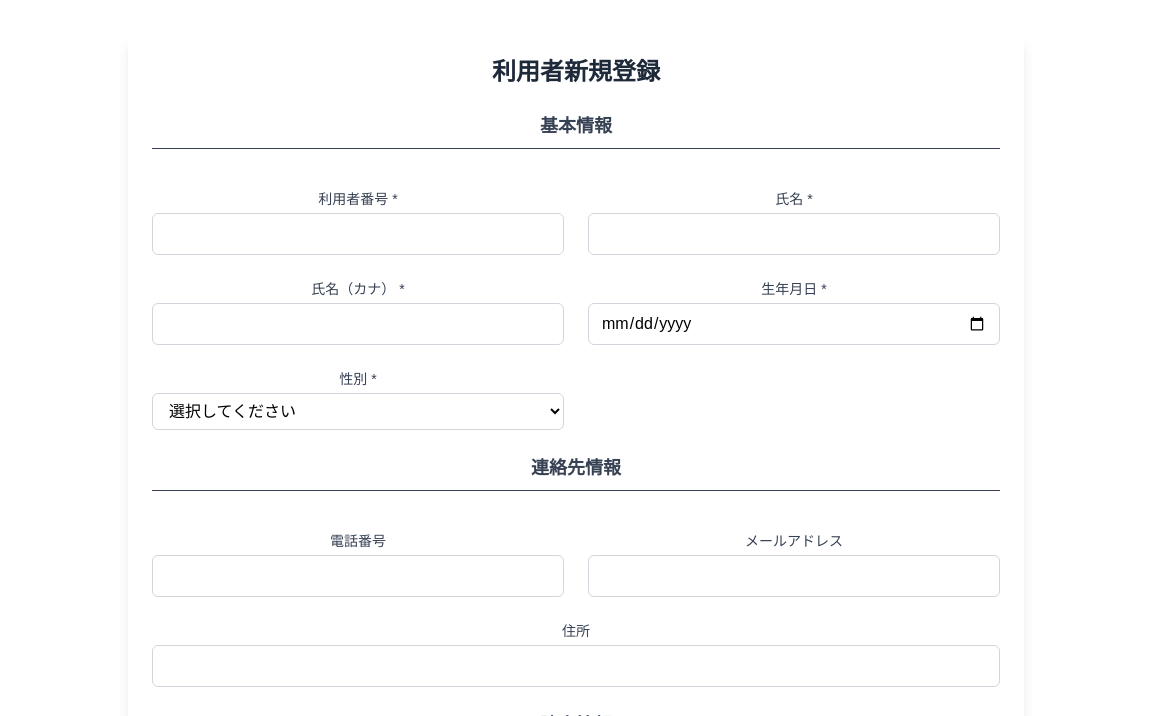
Test: ClientForm › バリデーション › 電話番号の形式が不正な場合エラーが表示される
Type "123" into the field labelled "電話番号" at x=358, y=576, box [152,555,564,597]
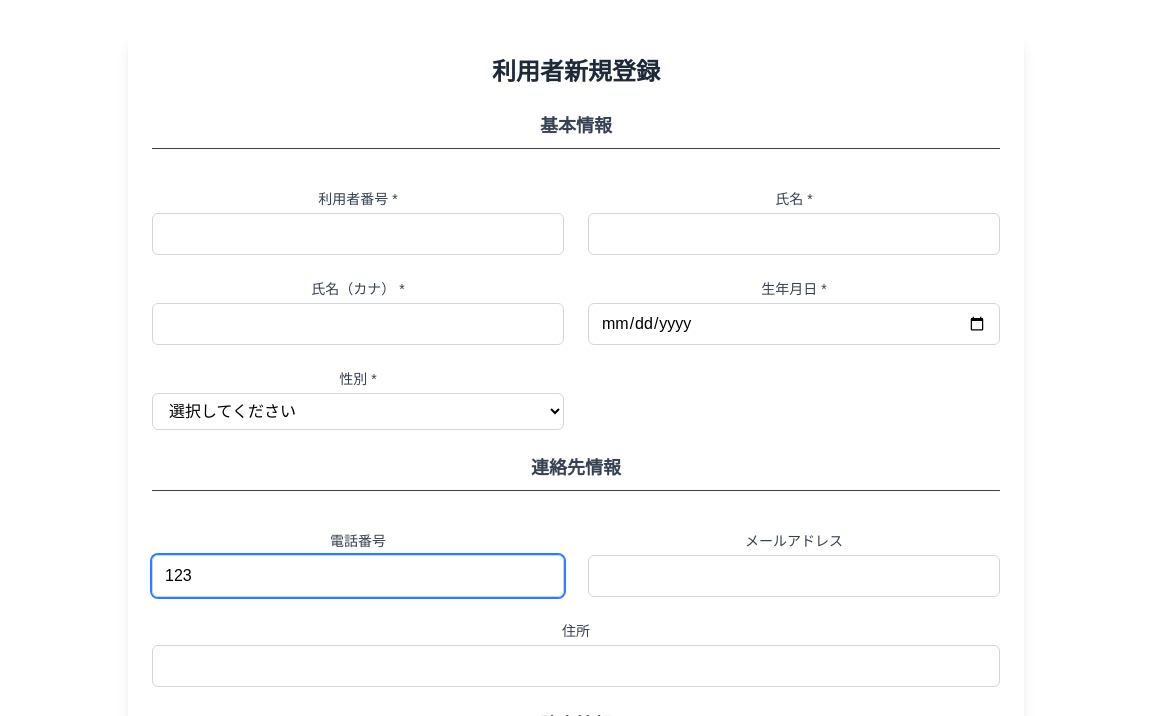
Press Tab
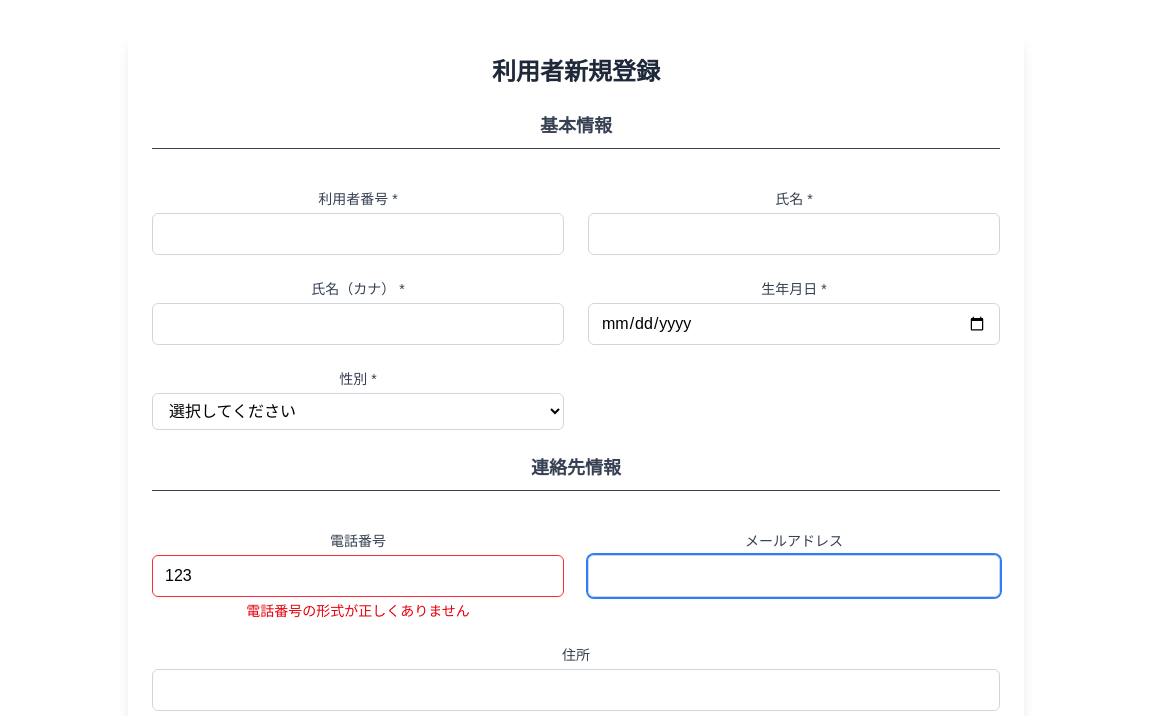
Check: the text "電話番号の形式が正しくありません" is shown, box [246,603,470,619]
